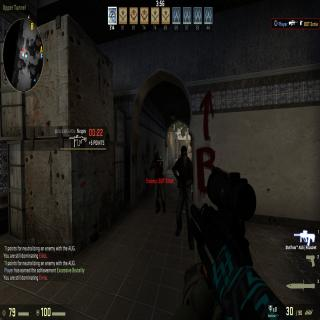T-Body: (174, 143, 199, 245), (149, 148, 169, 217)
T-Head: (178, 143, 190, 166), (151, 149, 163, 165)
